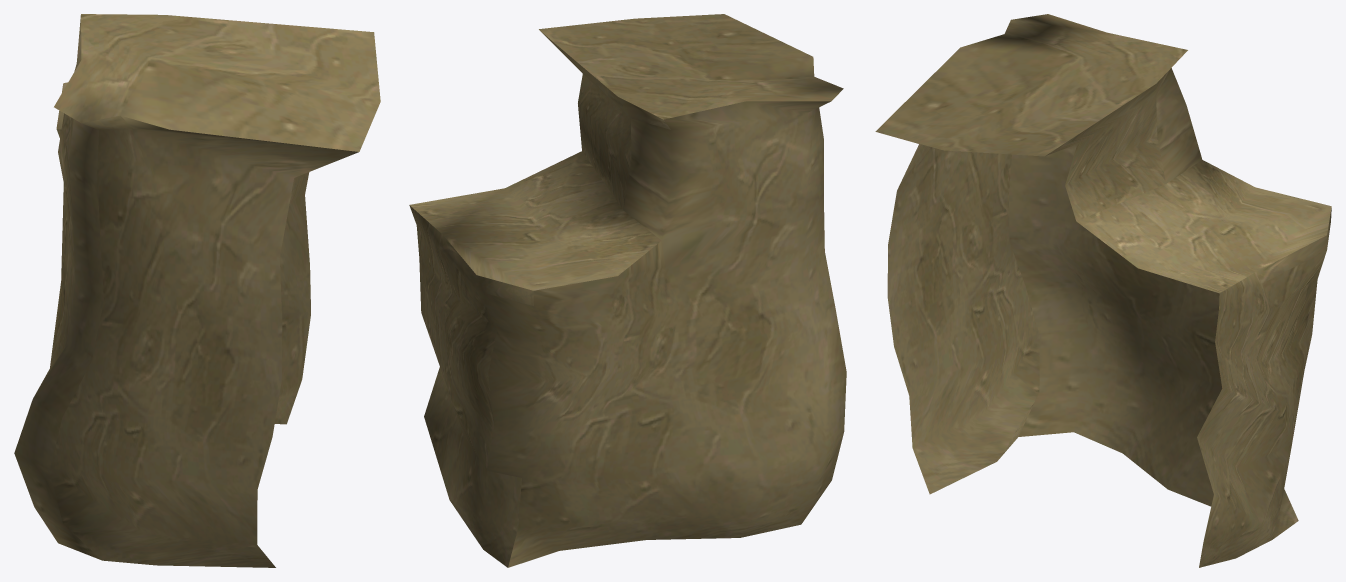
File: MIRKWOOD_MIRK_PLAYSURFACE14.fbx
3 renders of one model, left to right at view 1: azimuth 30°, elevation 25°; view 2: azimuth 150°, elevation 25°; view 3: azimuth 270°, elevation 25°, orthographic. The views are drawn at different scales.
Parts seen in each view (by area): view 1: MIRKWOOD_MIRK_PLAYSURFACE14; view 2: MIRKWOOD_MIRK_PLAYSURFACE14; view 3: MIRKWOOD_MIRK_PLAYSURFACE14.
Boxes of the visible parts, bbox=[...] form: MIRKWOOD_MIRK_PLAYSURFACE14: bbox=[14, 14, 380, 567]; MIRKWOOD_MIRK_PLAYSURFACE14: bbox=[409, 14, 846, 567]; MIRKWOOD_MIRK_PLAYSURFACE14: bbox=[875, 14, 1331, 567].
Size of the model in its own units: 36305 by 43163 by 41682.
Materials: 1 (1 with a texture image).
